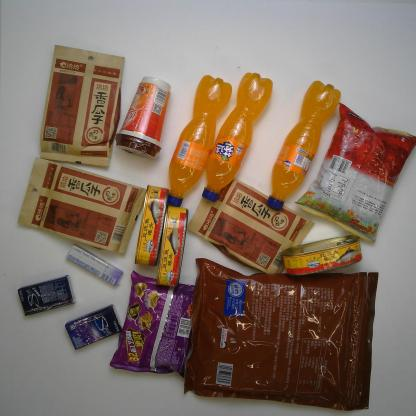Candy: (65, 243, 124, 287)
Canned Food: (281, 233, 363, 278), (133, 184, 171, 267), (154, 205, 190, 290)
Dried Food: (181, 256, 380, 411), (184, 176, 317, 275), (16, 156, 148, 255), (38, 44, 126, 169)
Drink: (267, 80, 342, 211), (201, 72, 274, 203), (166, 74, 234, 208)
Gum: (64, 304, 123, 351), (17, 275, 76, 316)
Instant Drink: (114, 75, 173, 161)
Instant Noodles: (109, 269, 195, 379)
Puffed Food: (292, 102, 416, 244)
